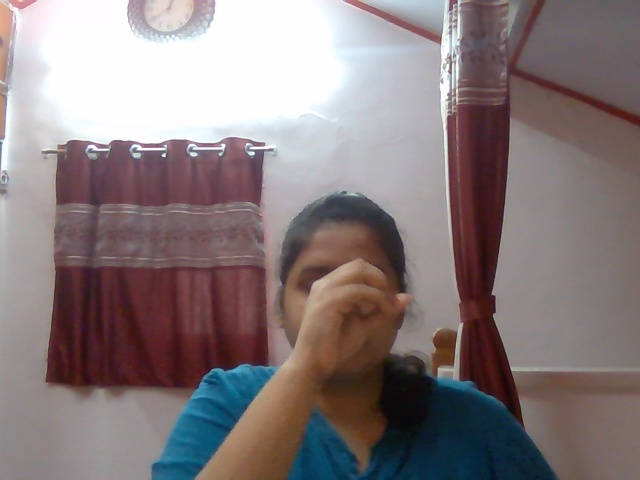o: (295, 257, 426, 369)
